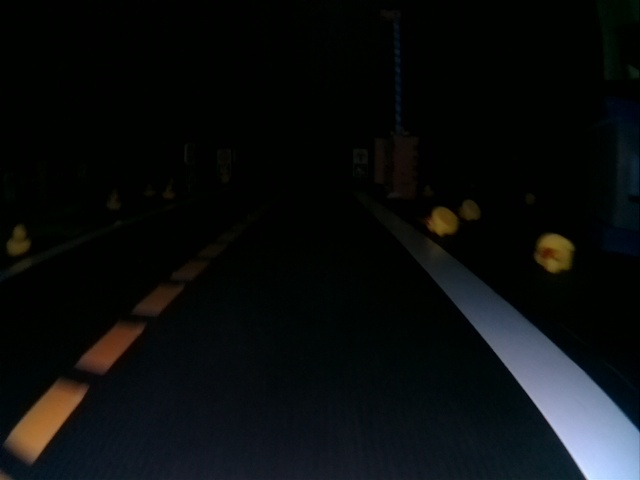Duckie: (536, 233, 574, 273), (425, 207, 458, 235), (7, 226, 30, 255), (461, 196, 480, 222), (106, 191, 119, 210), (163, 184, 173, 199)
